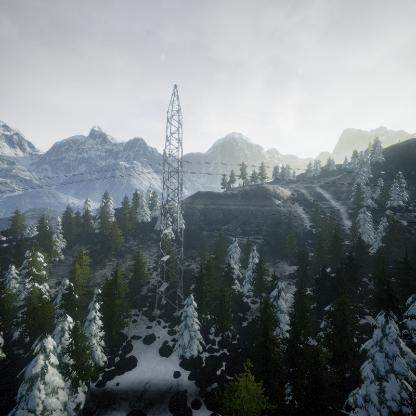tower: (154, 84, 186, 316)
